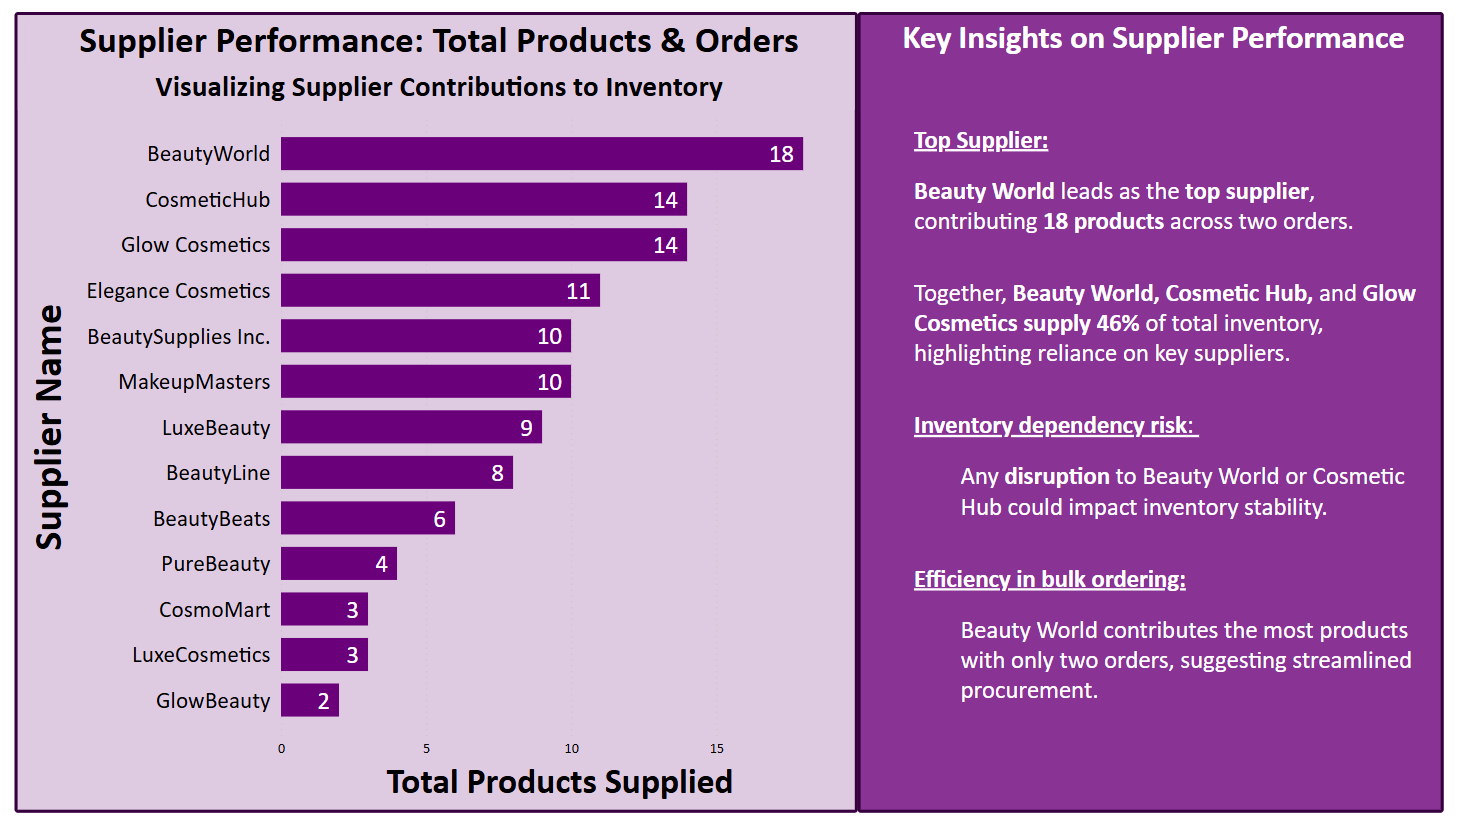

The dashboard page shown, as its layout file describes it:
{"tool":"powerbi","page":{"name":"Supplier Performance","canvas":[1280,720],"ordinal":8},"visuals":[{"type":"clusteredBarChart","title":"Supplier Performance: Total Products & Orders","fields":{"Category":["Supplier Performance.SupplierName"],"Y":["Sum(Supplier Performance.TotalProductsSupplied)"]},"box":[19.7,18.2,725.8,689.4],"z":0},{"type":"textbox","title":"Key Insights on Supplier Performance","box":[745.5,18.2,504.5,689.4],"z":1000}]}

Visuals, with their boxes in screenshot pixels (x1, y1, x2, y2), scaled from the page's 1280x720 canvas onto the 1461x823 screenshot:
"Supplier Performance: Total Products & Orders" clusteredBarChart: region(22, 21, 851, 809)
"Key Insights on Supplier Performance" textbox: region(851, 21, 1427, 809)
